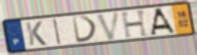A: (150, 7, 178, 36)
D: (70, 15, 99, 44)
H: (119, 9, 150, 40)
I: (53, 18, 63, 47)
K: (24, 20, 48, 47)
V: (94, 10, 122, 42)
